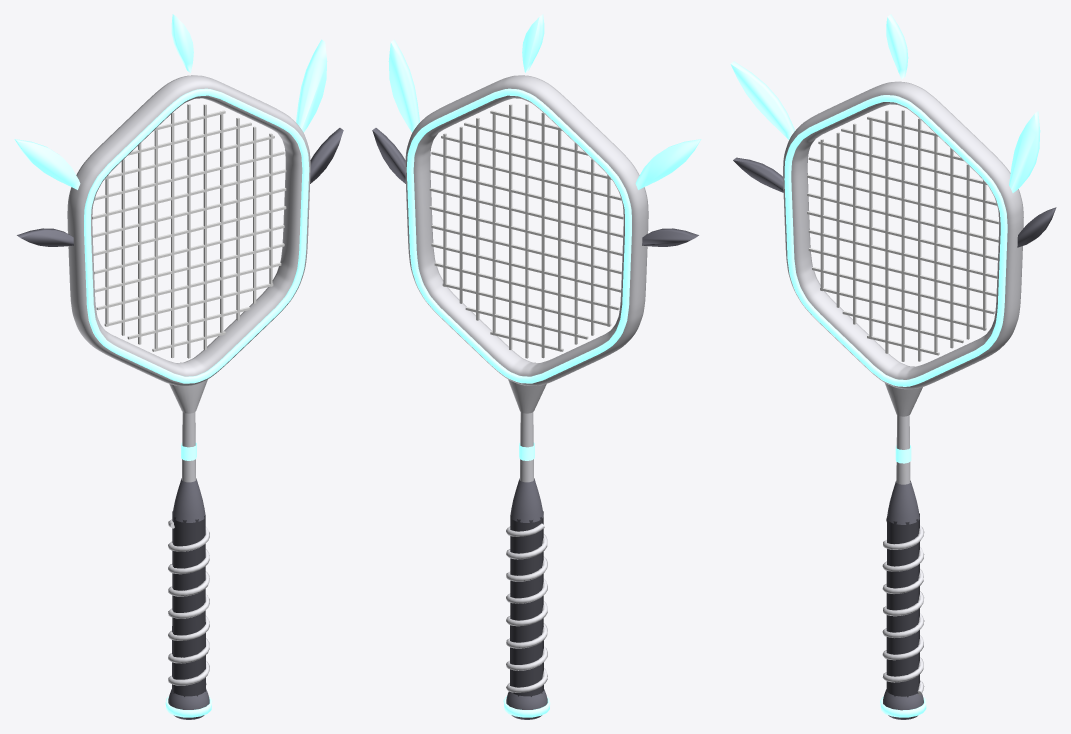
The model's file is racket_blade.glb.
The picture shows the model from 3 angles, left to right: view 1: azimuth 30°, elevation 25°; view 2: azimuth 150°, elevation 25°; view 3: azimuth 330°, elevation 25°; orthographic projection.
Visible parts, largest first — view 1: Strings, FrameHead, Groove, Grip, GripTape, Fin.001, Fin, Throat, FinBack.001, FinBack, Shaft, Spike (+2 smaller); view 2: Strings, FrameHead, Groove.001, Grip, GripTape, Fin.001, Fin, Throat, FinBack.001, FinBack, Shaft, Spike (+2 smaller); view 3: Strings, FrameHead, Groove, Grip, GripTape, Fin, Fin.001, Throat, Spike, FinBack, Shaft, TJoint (+2 smaller).
Boxes of the visible parts, x1,y1,x2,y2 form: Strings: [92, 103, 286, 358]; FrameHead: [67, 75, 310, 385]; Groove: [84, 88, 309, 383]; Grip: [172, 511, 205, 696]; GripTape: [168, 519, 209, 685]; Fin.001: [296, 39, 327, 132]; Fin: [14, 139, 80, 189]; Throat: [172, 478, 205, 522]; FinBack.001: [310, 128, 343, 183]; FinBack: [17, 228, 73, 246]; Shaft: [182, 412, 196, 482]; Spike: [171, 14, 193, 72]; Strings: [429, 103, 623, 358]; FrameHead: [405, 75, 648, 385]; Groove.001: [406, 88, 631, 383]; Grip: [510, 511, 543, 696]; GripTape: [506, 523, 547, 692]; Fin.001: [388, 39, 419, 132]; Fin: [635, 139, 701, 189]; Throat: [510, 478, 543, 522]; FinBack.001: [372, 128, 405, 183]; FinBack: [642, 228, 698, 246]; Shaft: [519, 412, 533, 482]; Spike: [522, 14, 544, 72]; Strings: [807, 110, 998, 361]; FrameHead: [783, 81, 1023, 389]; Groove: [784, 95, 1007, 386]; Grip: [886, 513, 920, 697]; GripTape: [882, 517, 924, 695]; Fin: [730, 61, 794, 139]; Fin.001: [1009, 111, 1040, 192]; Throat: [887, 480, 919, 524]; Spike: [886, 14, 908, 79]; FinBack: [733, 157, 783, 192]; Shaft: [896, 415, 910, 484]; TJoint: [885, 383, 922, 416].
Bounding box in the file's own units: 0.3975 × 0.82 × 0.0496.
